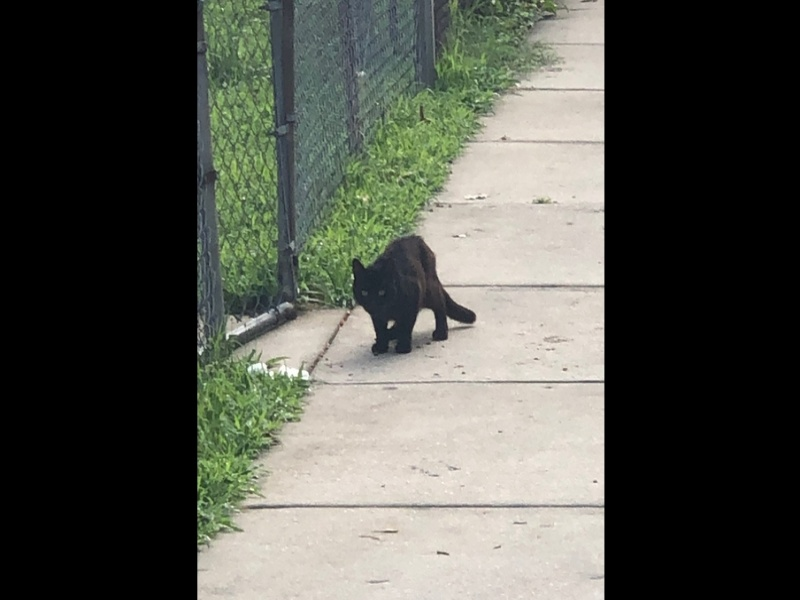cat: (351, 232, 477, 360)
